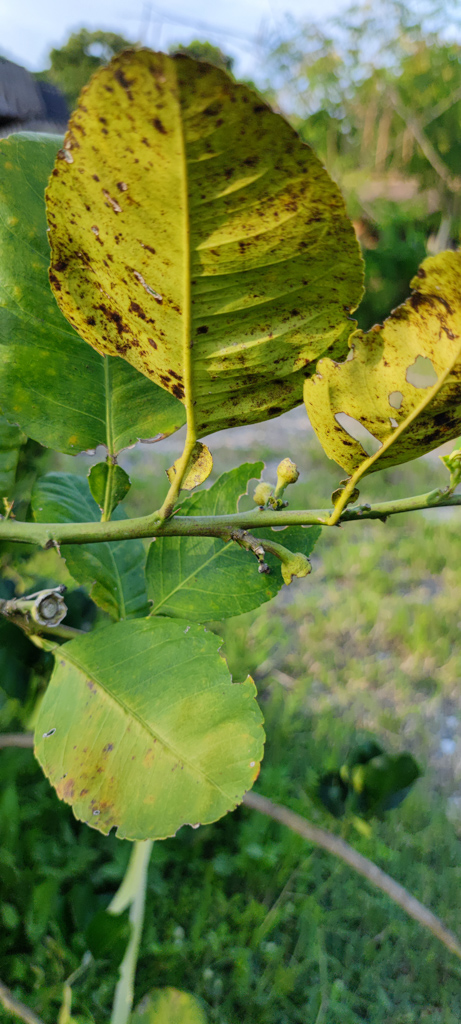Canker: (47, 21, 372, 440), (301, 239, 456, 479), (51, 729, 156, 834)
